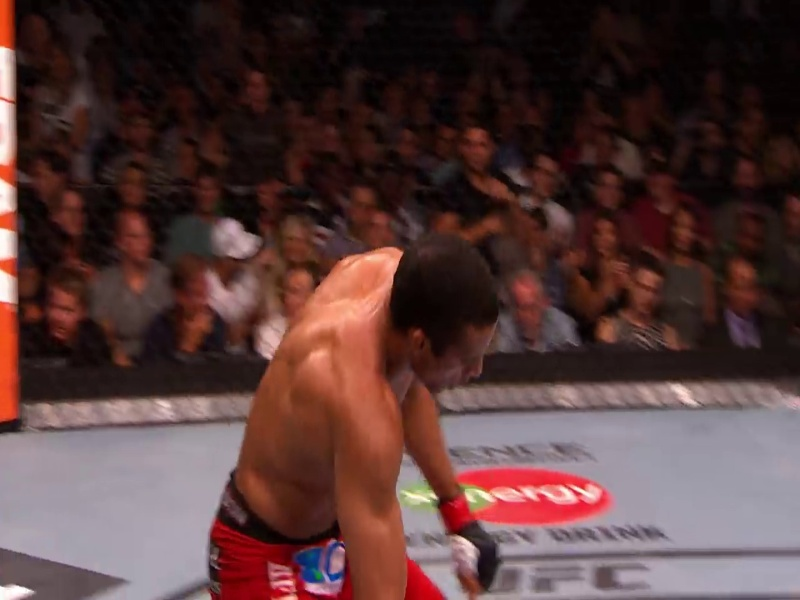fighter: (202, 222, 565, 600)
